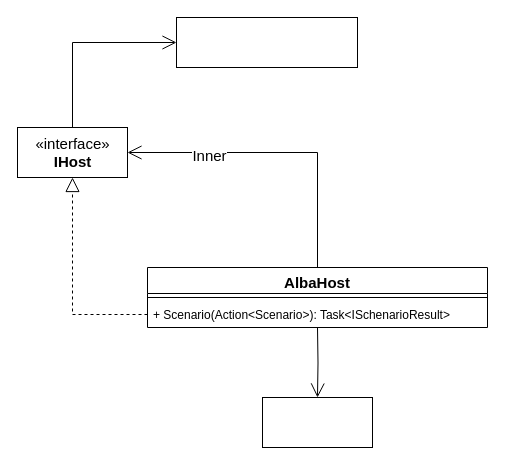
This 505x465 diagram has some shape labels left out. The centre of each missing label's shape, as x and y in pixels:
"TestServer" belongs at (317,422).
"«interface» IServiceProvider" belongs at (267,42).
